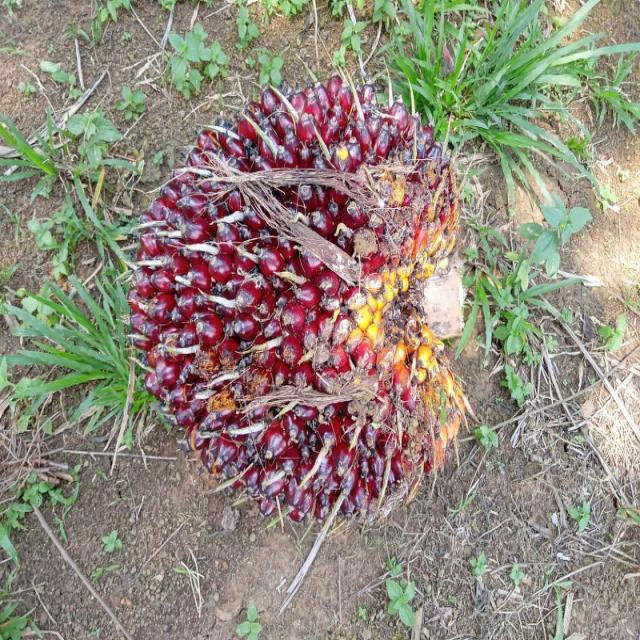fraksi 1: (131, 47, 512, 558)
